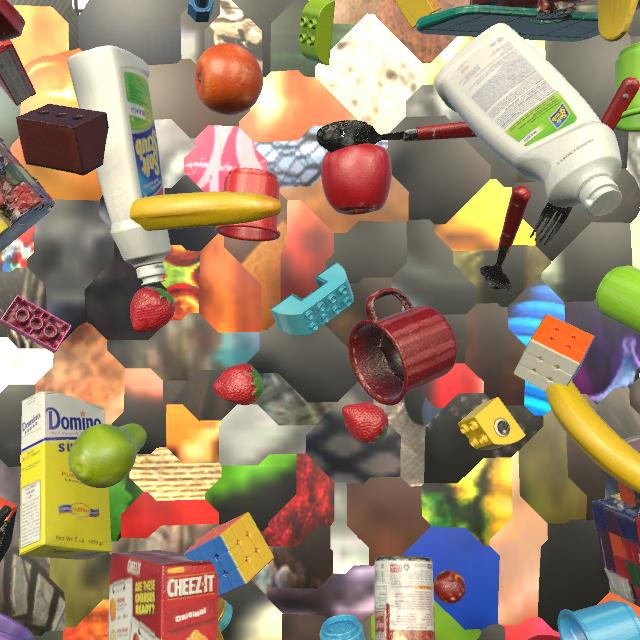ycb_003_cracker_box: (108, 550, 218, 640)
ycb_004_sugar_box: (19, 391, 112, 560)
ycb_005_tomato_soup_can: (374, 556, 435, 640)
ycb_009_gelatin_box: (0, 40, 36, 106)
ycb_011_banana: (546, 381, 640, 494), (130, 192, 281, 231)
ycb_012_strawberry: (213, 363, 264, 405), (130, 286, 175, 333), (342, 402, 389, 444)
ycb_013_apple: (321, 144, 392, 215)
ycb_016_pear: (68, 423, 146, 488)
ycb_017_orange: (195, 43, 263, 115)
